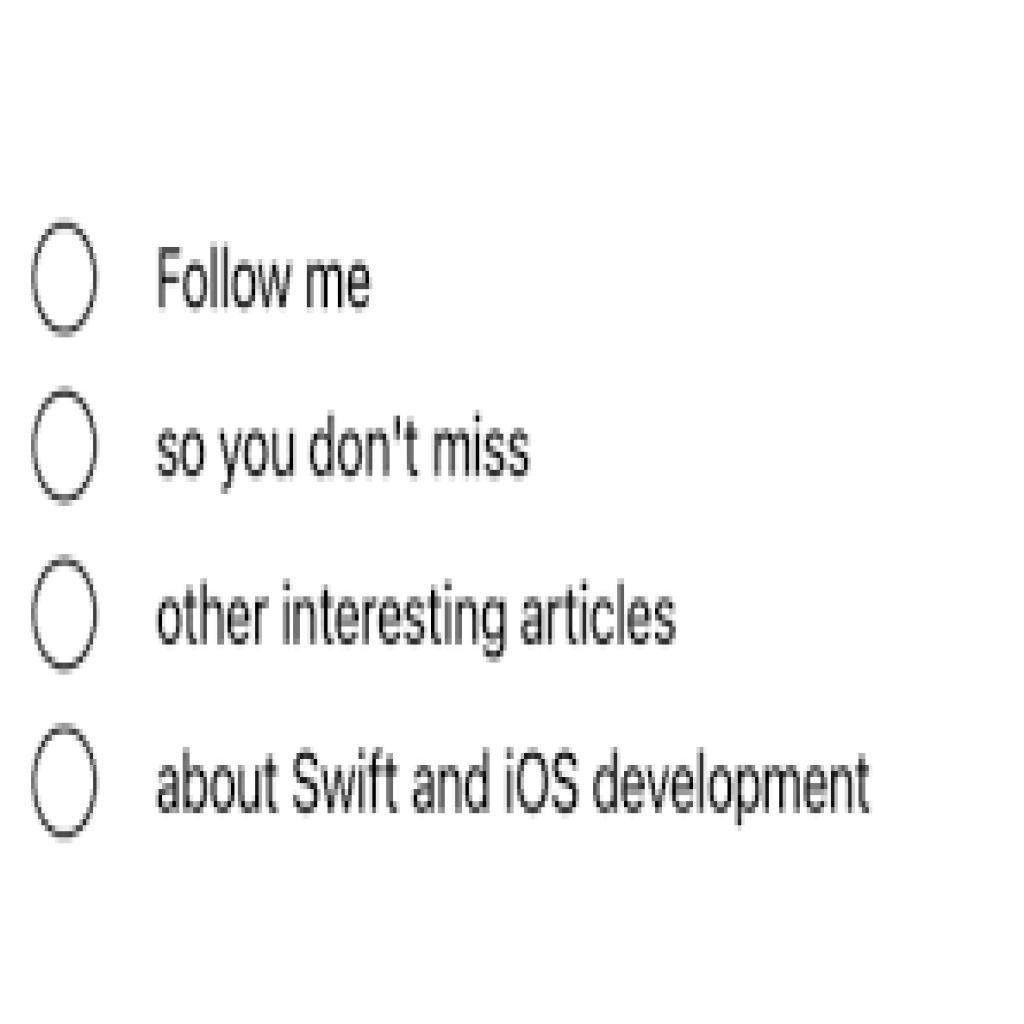label: (145, 742, 877, 832), (151, 575, 679, 665), (151, 408, 547, 493), (147, 238, 388, 323)
radio: (29, 712, 106, 848), (29, 214, 101, 347), (29, 376, 102, 506), (31, 541, 100, 675)
